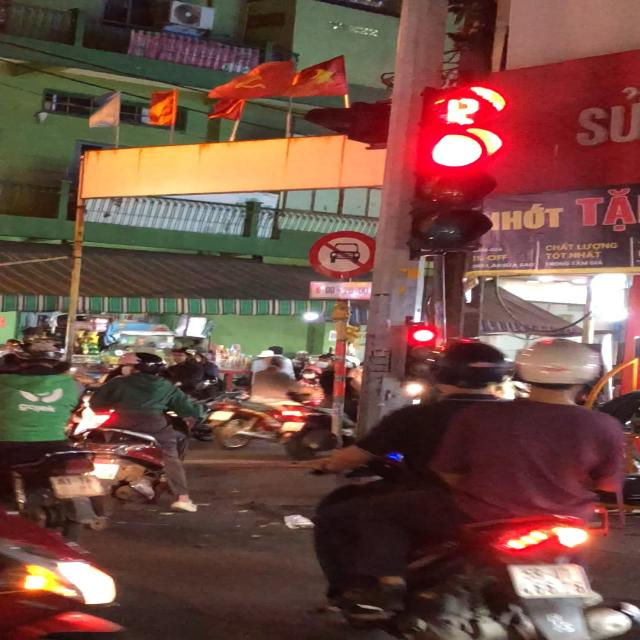Bien bao cam xe oto: (309, 228, 383, 279)
